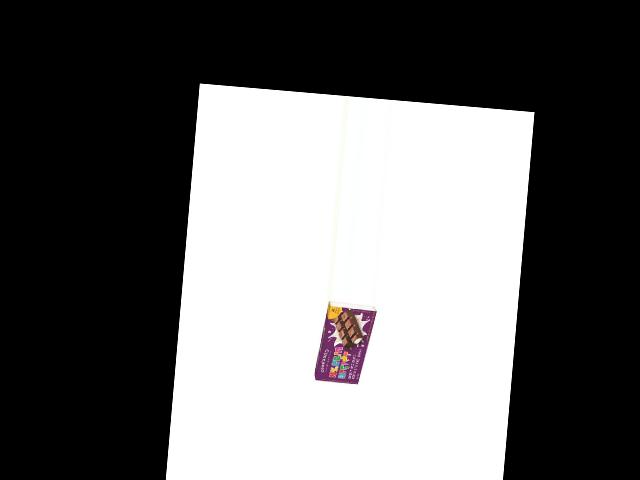chocolate: (313, 299, 373, 390)
